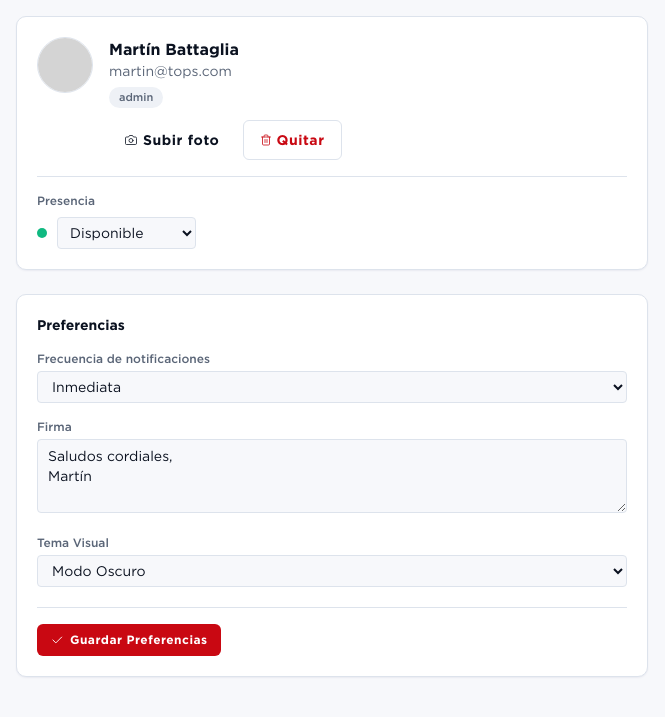
Test: ProfileForm DOM Regression & Safety Tests › quitar foto invoca removeAvatarAction y limpia vista previa
Click the button "Quitar": click(292, 140) [243,120,342,160]
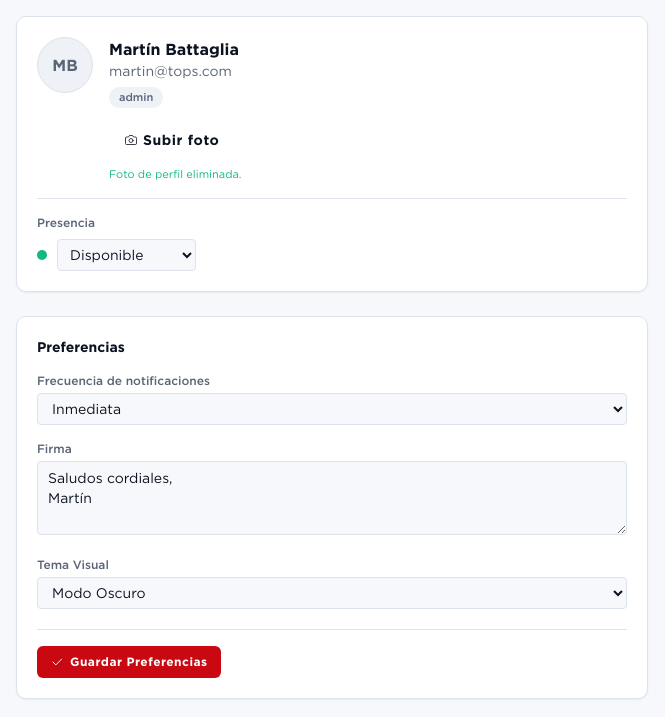
Check: the text "Foto de perfil eliminada." is shown, box [109,168,242,180]
